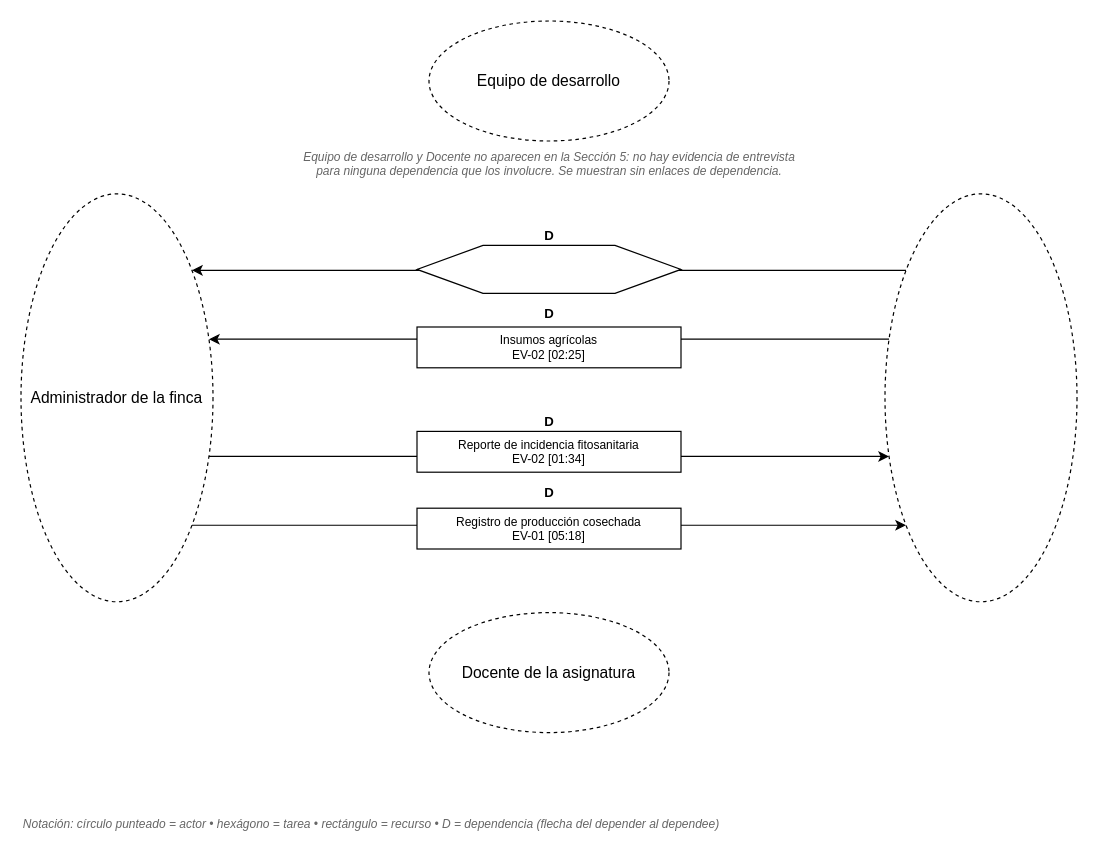
The diagram is 1098 pixels wide and 857 high, and some of its shapes have lost their labels. Here are the shapes that lost their labels. From the top down, the centre of each, then its label:
the point at 548,268: Asignación de tarea diaria EV-02 [01:01]
the point at 980,397: Jornalero
